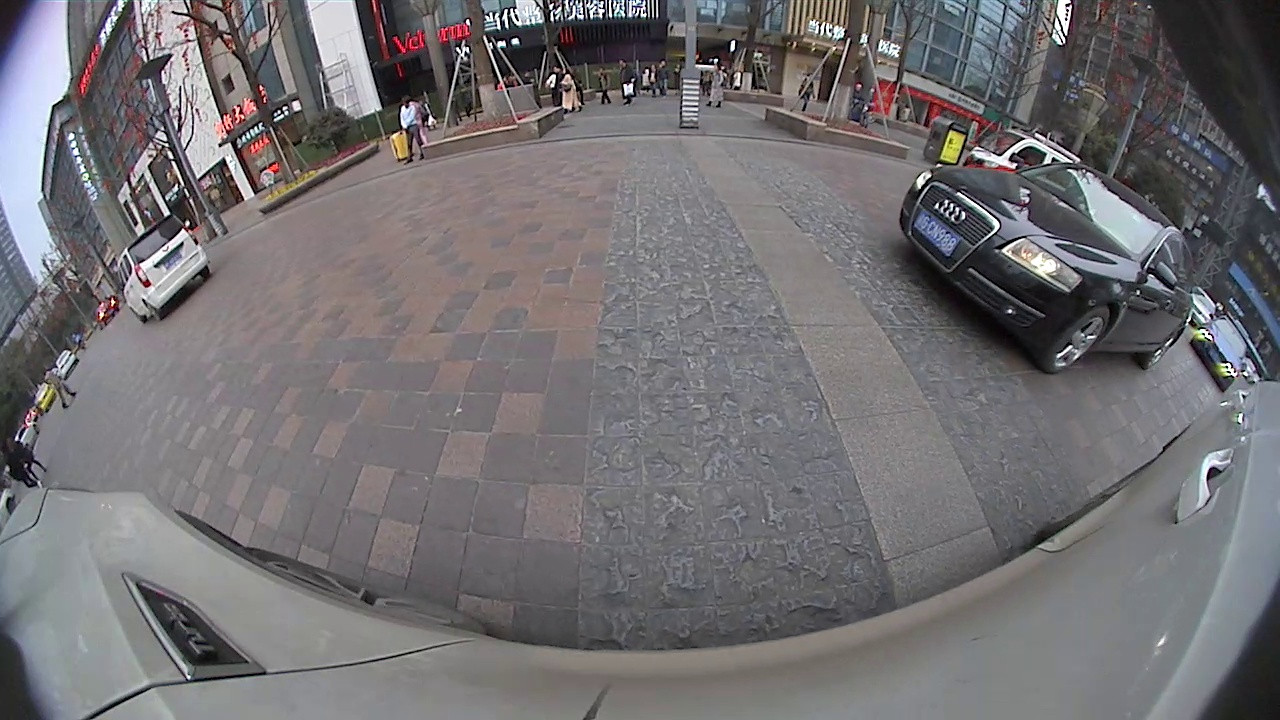car: (897, 160, 1196, 374), (115, 211, 215, 326), (1189, 314, 1250, 394)
front: (1038, 300, 1115, 374)
person: (402, 98, 420, 164)
rider: (965, 126, 1084, 176)
